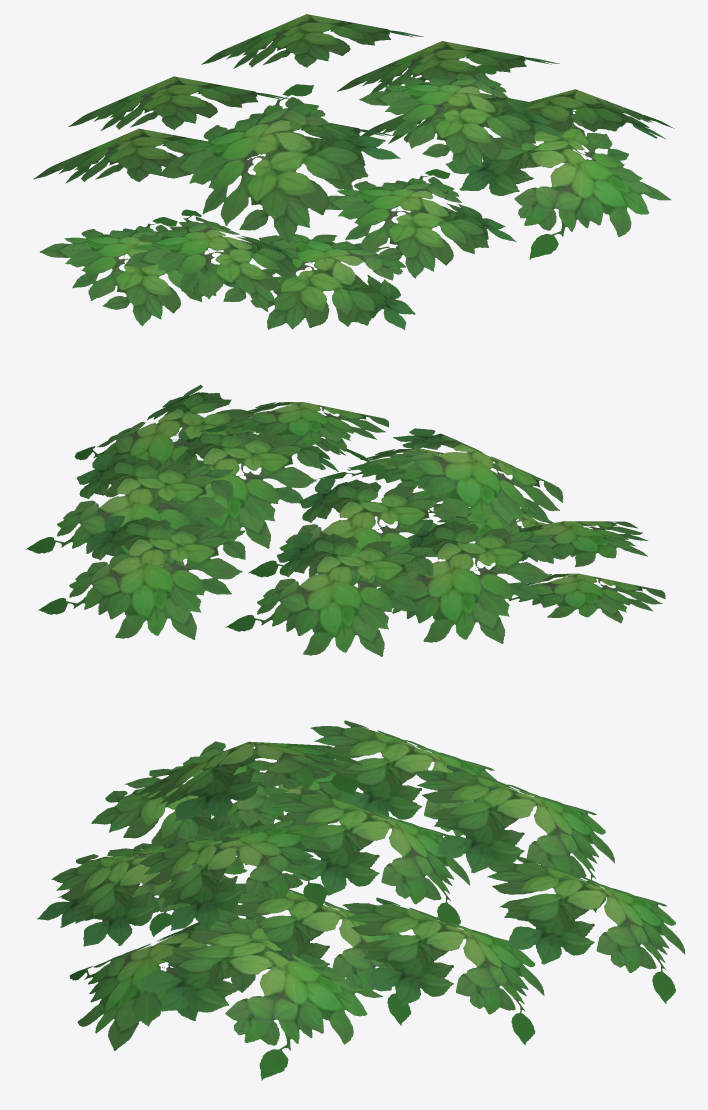
The model's file is scene_senlincaodi_tree05.FBX.
3 views of the same model, one above another, from view 1: azimuth 30°, elevation 25°; view 2: azimuth 150°, elevation 25°; view 3: azimuth 270°, elevation 25° (orthographic). The views are drawn at different scales.
Visible parts, largest first — view 1: scene_senlincaodi_tree005; view 2: scene_senlincaodi_tree005; view 3: scene_senlincaodi_tree005.
Part boxes in pixels (x1,y1,x2,y2): scene_senlincaodi_tree005: [33, 14, 674, 329]; scene_senlincaodi_tree005: [25, 384, 665, 656]; scene_senlincaodi_tree005: [37, 720, 685, 1080].
Size of the model in its own units: 2598 by 572 by 2163.
